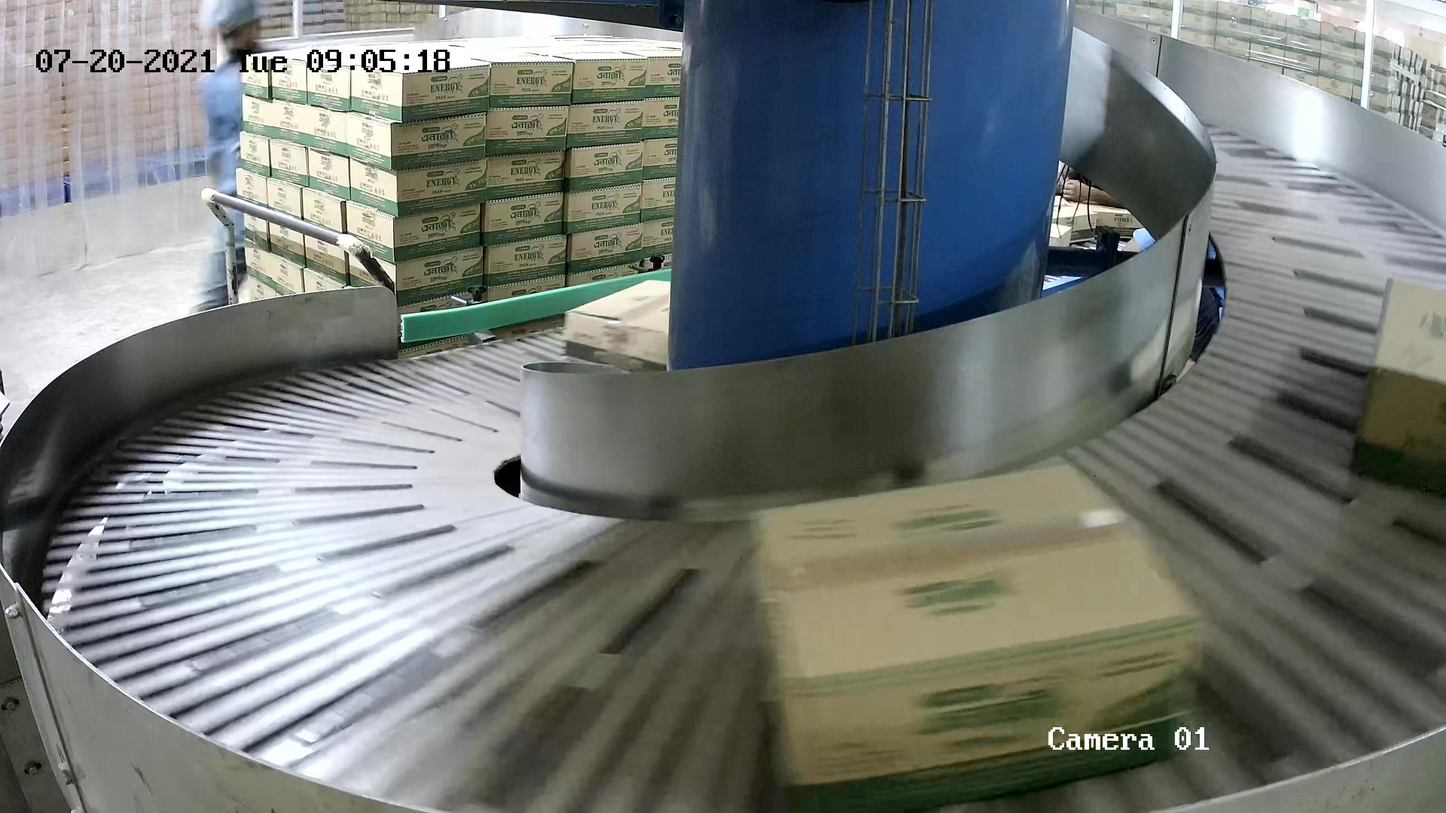Box: (740, 455, 1211, 813), (1350, 274, 1446, 498), (560, 277, 672, 376)
